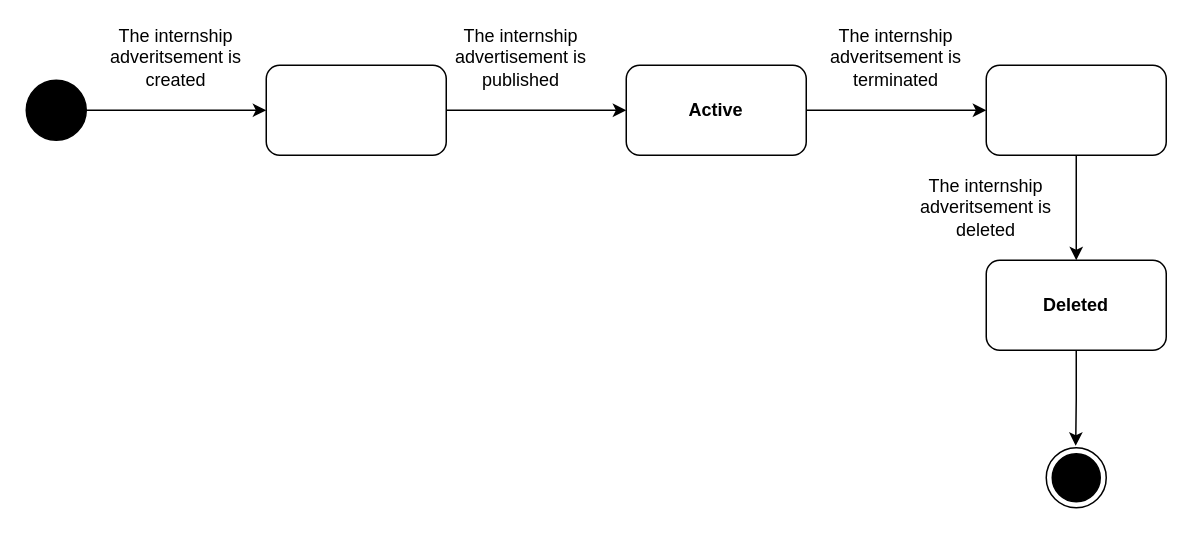
This 1193x534 diagram has some shape labels left out. The shapes that lost their labels are listed below. From the top down, each one's centre as x and y in pixels, then its label:
the point at 355,109: Draft
the point at 1075,109: Inactive
